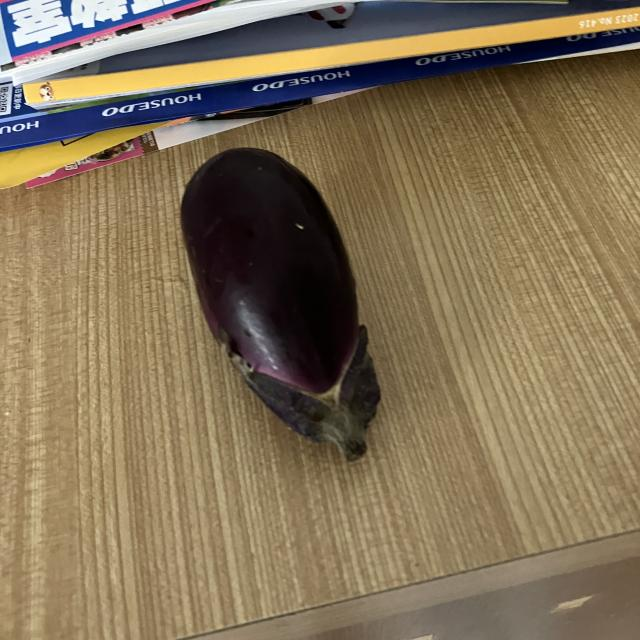eggplant: (178, 145, 384, 468)
